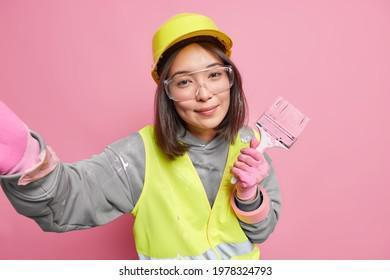helmet: (151, 11, 234, 73)
